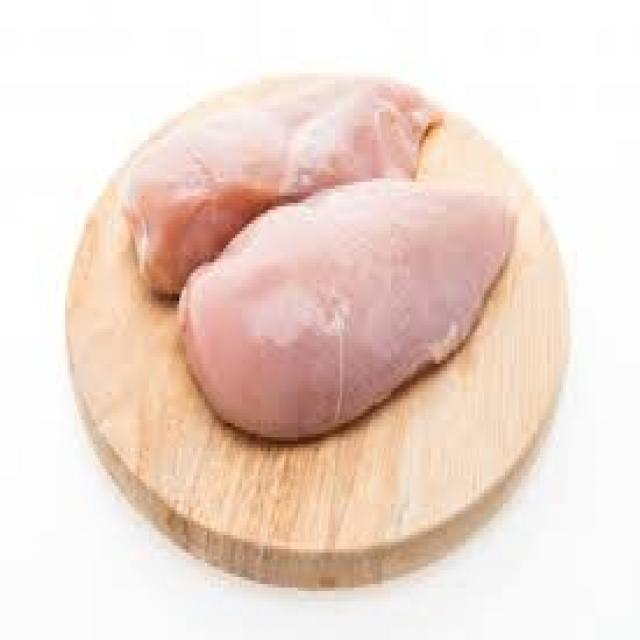Chicken Breast: (204, 202, 544, 410), (126, 49, 421, 224)
